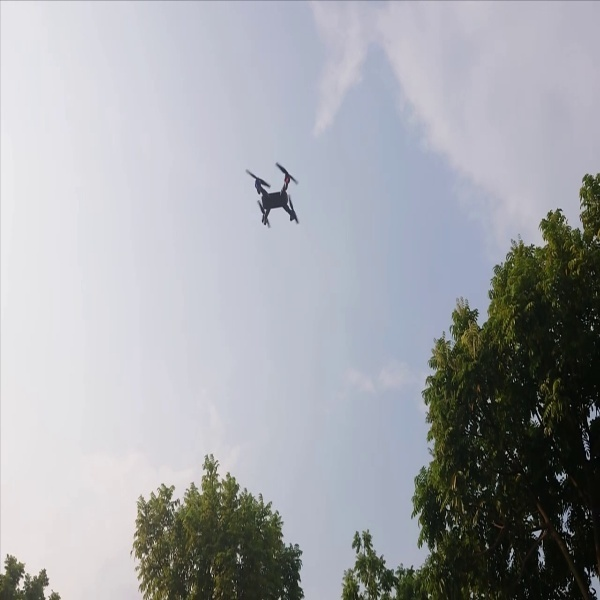drone: (242, 155, 313, 234)
